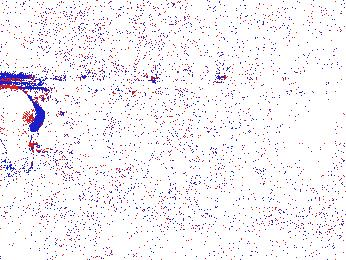flame jellyfish: (1, 82, 44, 178), (186, 196, 239, 248), (1, 215, 51, 260)
